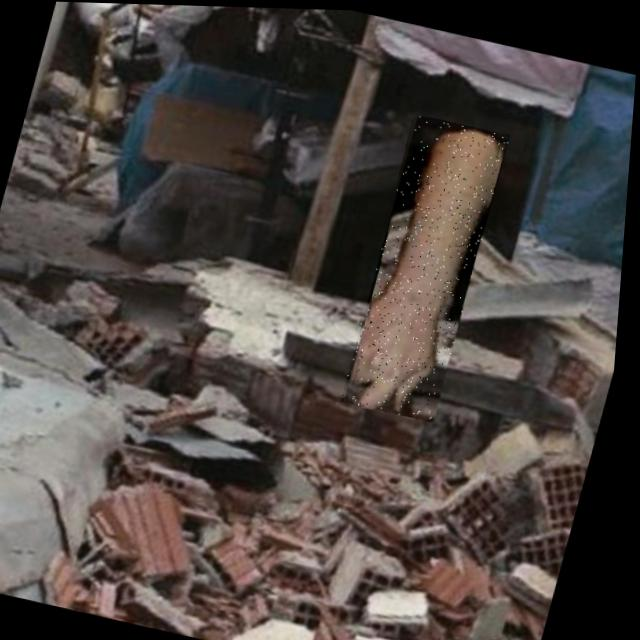Person in Rubble: (344, 111, 512, 422)
